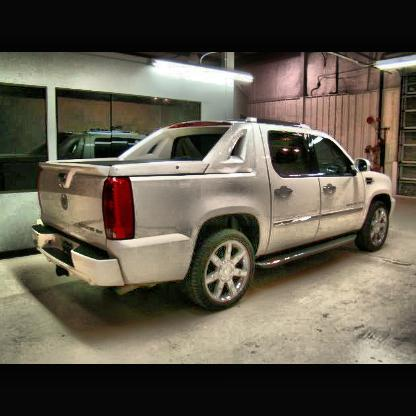Cadillac Escalade EXT Crew Cab 2007: (36, 121, 394, 309)
